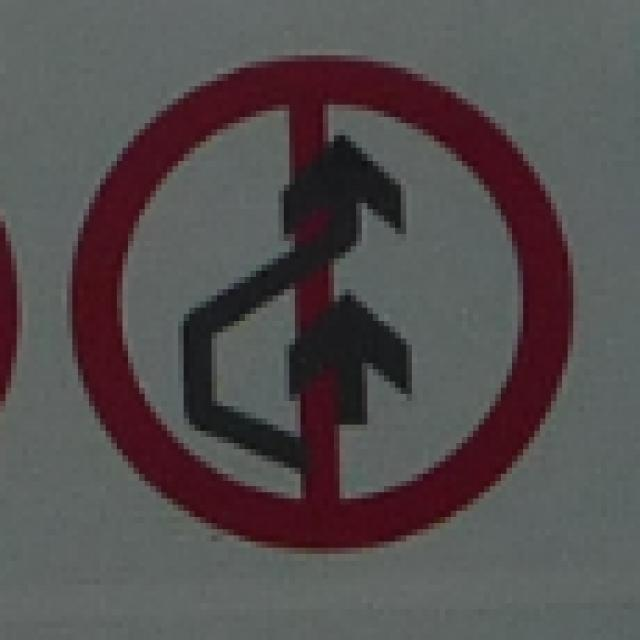Not that Direction: (70, 56, 584, 561)
